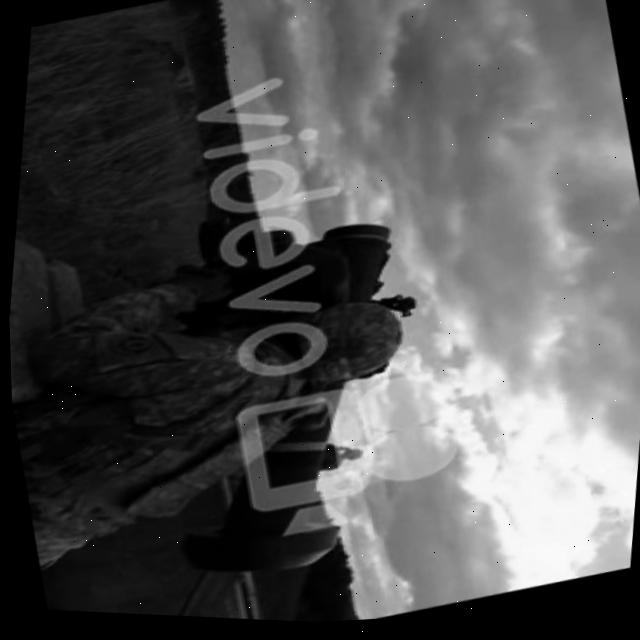rocket: (145, 368, 386, 614)
